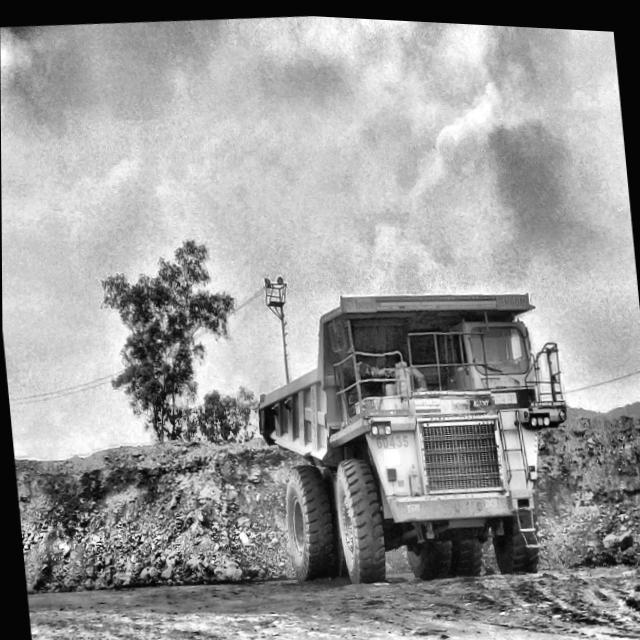dump_truck: (237, 244, 593, 610)
